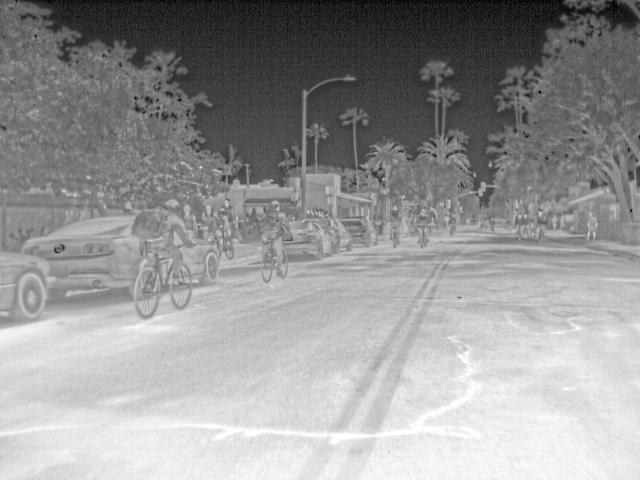car: (20, 214, 135, 299), (1, 250, 52, 321), (283, 218, 338, 260), (313, 216, 351, 252), (193, 241, 221, 288), (341, 218, 380, 250), (495, 220, 513, 231), (469, 218, 478, 227), (480, 220, 488, 230)
person: (140, 198, 197, 290), (259, 197, 295, 276), (219, 198, 238, 241), (201, 202, 221, 241), (183, 202, 198, 232), (587, 211, 600, 244), (390, 204, 402, 230), (418, 208, 431, 230), (537, 207, 546, 232), (449, 214, 458, 228), (552, 214, 560, 228), (517, 212, 523, 229), (489, 216, 496, 230), (522, 211, 528, 225)
